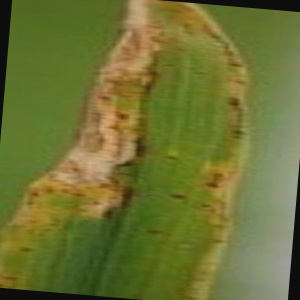Leaf_Blast: (66, 7, 251, 300)
